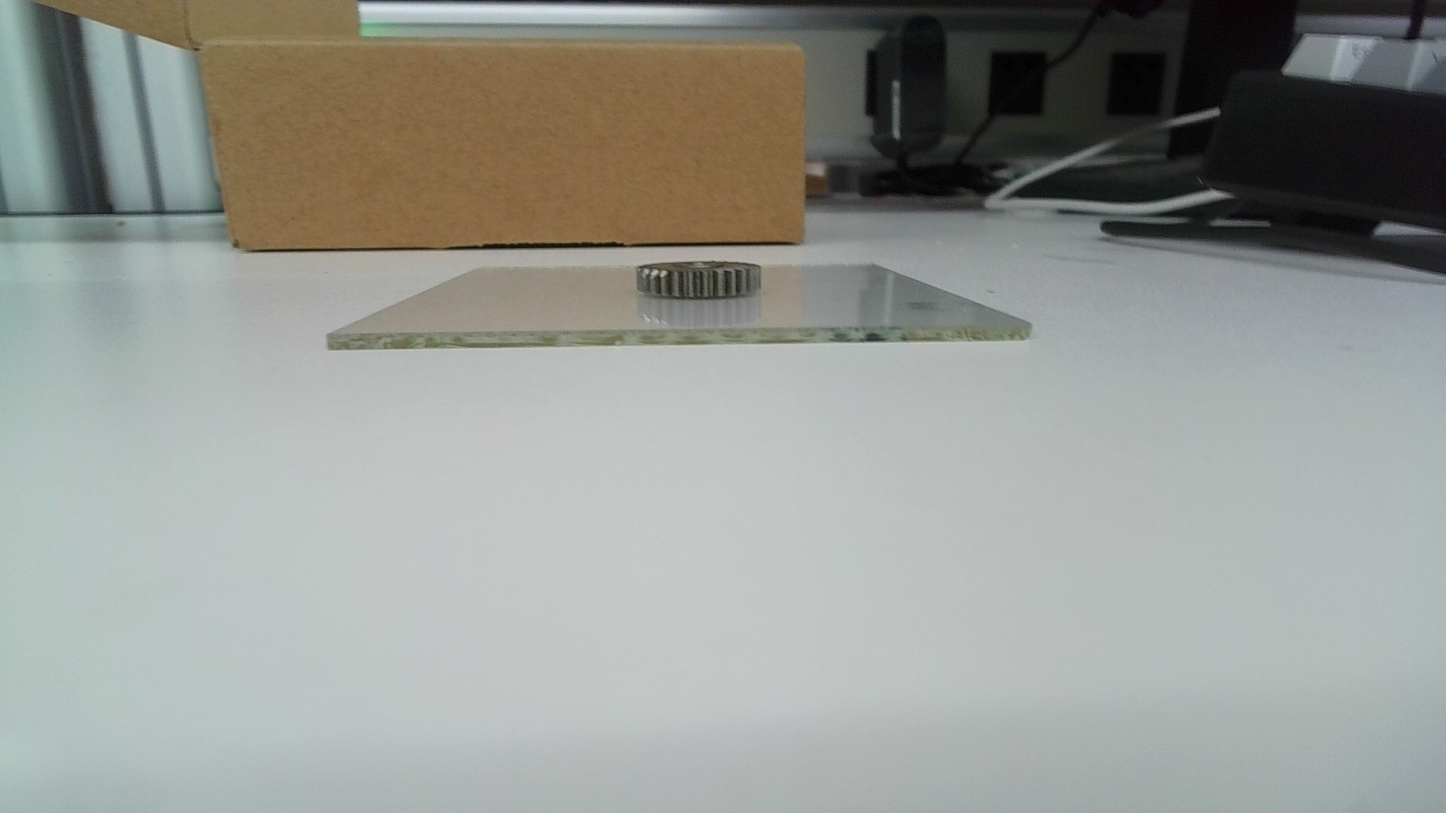gear: (635, 260, 765, 299)
